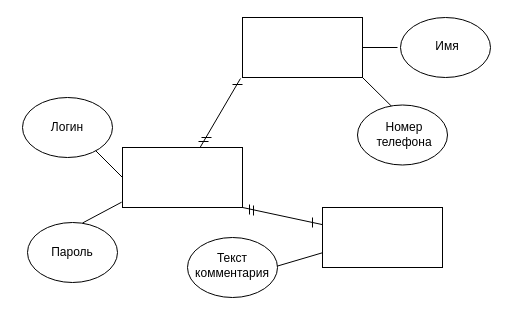
The diagram is 514 pixels wide and 315 high, and some of its shapes have lost their labels. The box of each missing label's shape, as (x1, y1, x2, y2) in pixels:
Комментарии: (322, 206, 442, 268)
Обратная связь: (242, 16, 362, 78)
Пользователи: (122, 146, 242, 208)
